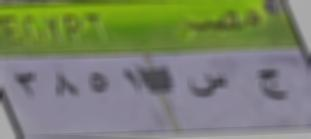1: (121, 62, 143, 102)
3: (13, 60, 45, 109)
5: (87, 62, 113, 103)
8: (52, 65, 81, 105)
jeem: (256, 60, 288, 108)
seen: (184, 71, 230, 103)
